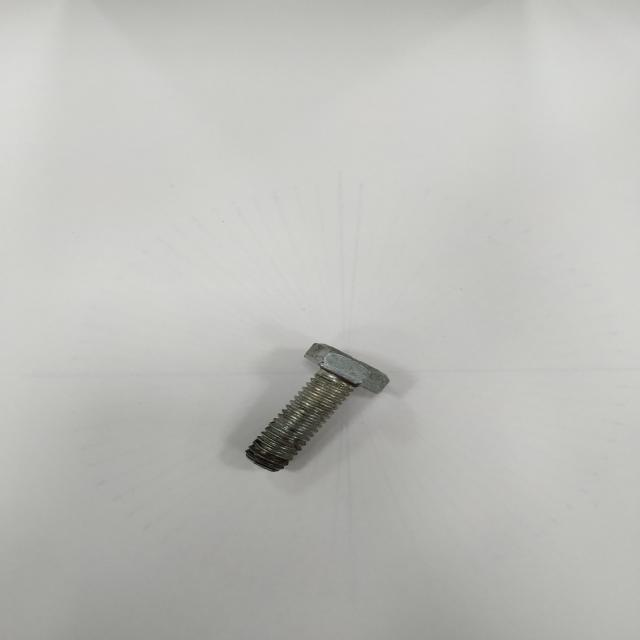Bolt: (247, 344, 388, 471)
